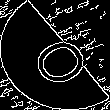O_NE: (17, 22, 93, 88)
